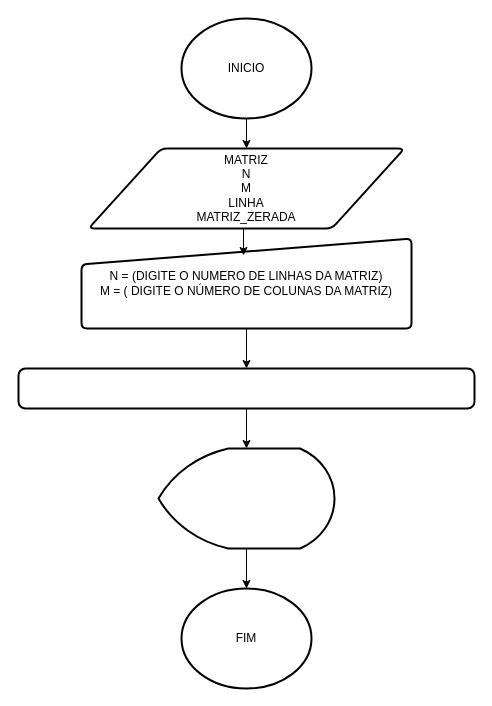
Image size: 492x706. Some labels were removed from this diagram. The shapes that lost their labels are listed below. From the top down, each one's centre as x and y in pixels, then its label:
pixel 246 388: MATRIZ = [[0 FOR IN RANGE (M)] FOR IN RANGE (N)]
pixel 246 498: MATRIZ_ZERADA
